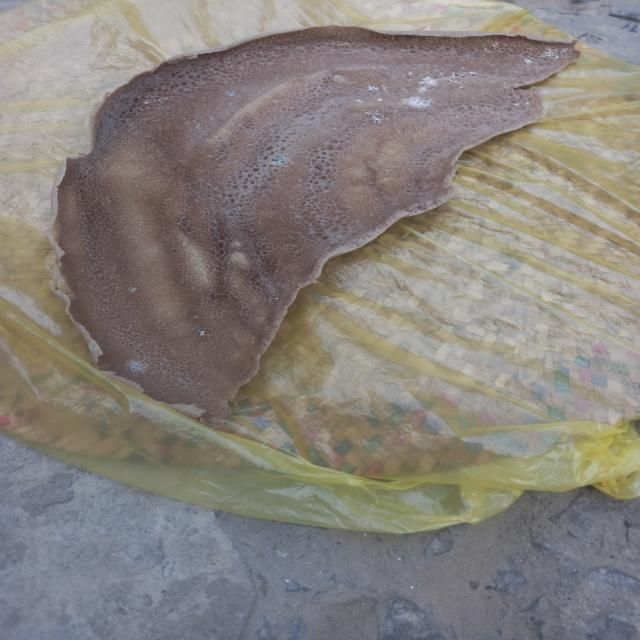injera_mold: (415, 74, 444, 92), (364, 110, 389, 126), (403, 96, 431, 109), (539, 47, 570, 58), (127, 357, 144, 377), (267, 155, 293, 167), (364, 84, 386, 93), (522, 54, 534, 68), (125, 284, 139, 294), (223, 88, 237, 98), (446, 73, 459, 83), (491, 41, 501, 49), (89, 343, 98, 350), (157, 97, 169, 102), (468, 70, 478, 76), (354, 98, 364, 104), (200, 330, 207, 338), (511, 102, 522, 107), (406, 70, 414, 76), (483, 47, 491, 53), (195, 122, 202, 128), (525, 100, 531, 107), (142, 102, 152, 105), (377, 97, 382, 102), (136, 95, 142, 99), (535, 70, 541, 74), (458, 85, 464, 89), (155, 92, 160, 96), (182, 116, 186, 121), (274, 297, 280, 300), (343, 123, 348, 126), (330, 100, 334, 103)
